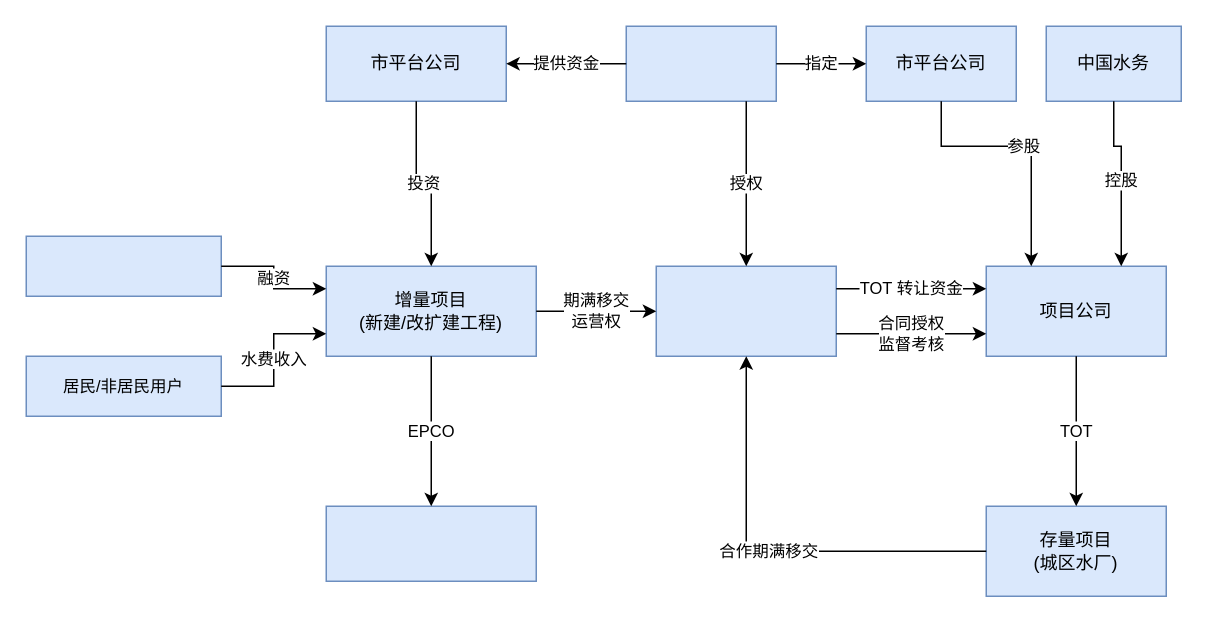
Some shapes in this 1208 by 623 pixel diagram are drawn without their labels. The shapes that lost their labels are listed below. From the top down, each one's centre as x and y in pixels, then its label:
the point at 700,63: 市政府
the point at 123,265: 专项债/政策性资金
the point at 745,310: 市水利局
the point at 430,543: 中国水务联合体
